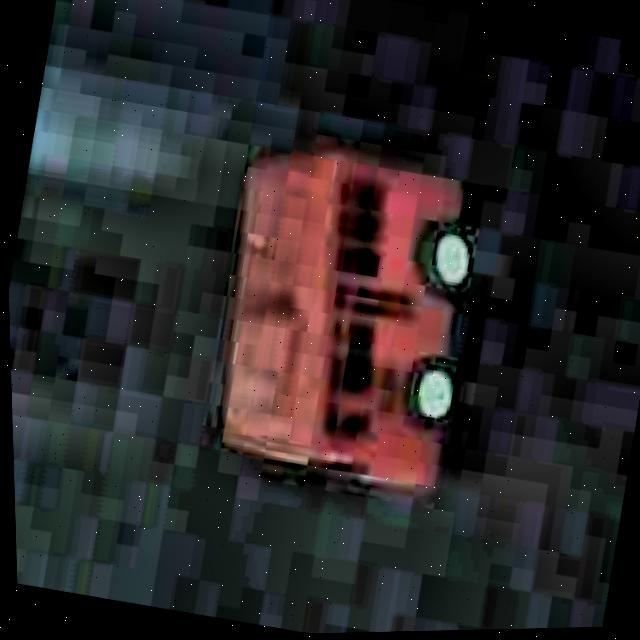bus: (182, 127, 518, 513)
